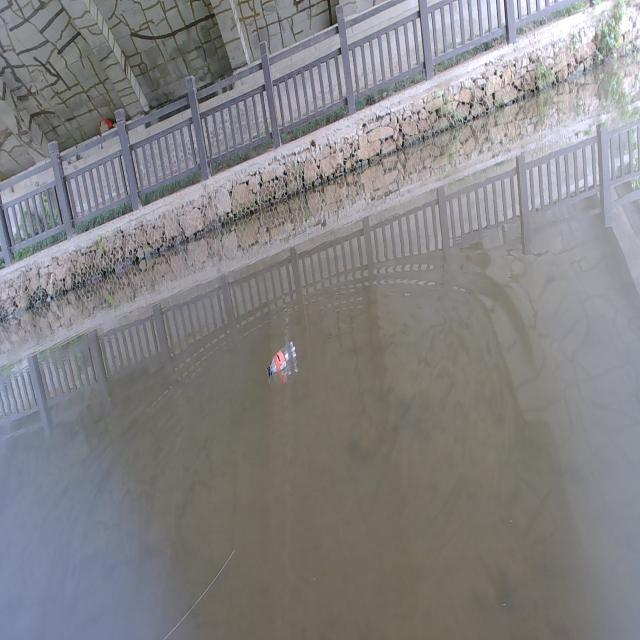bottle: (258, 338, 309, 383)
